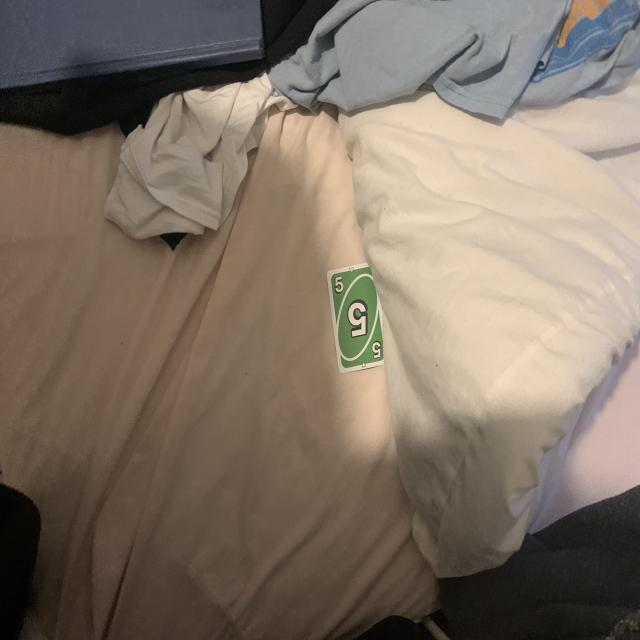lgreen-5: (332, 274, 346, 296)
